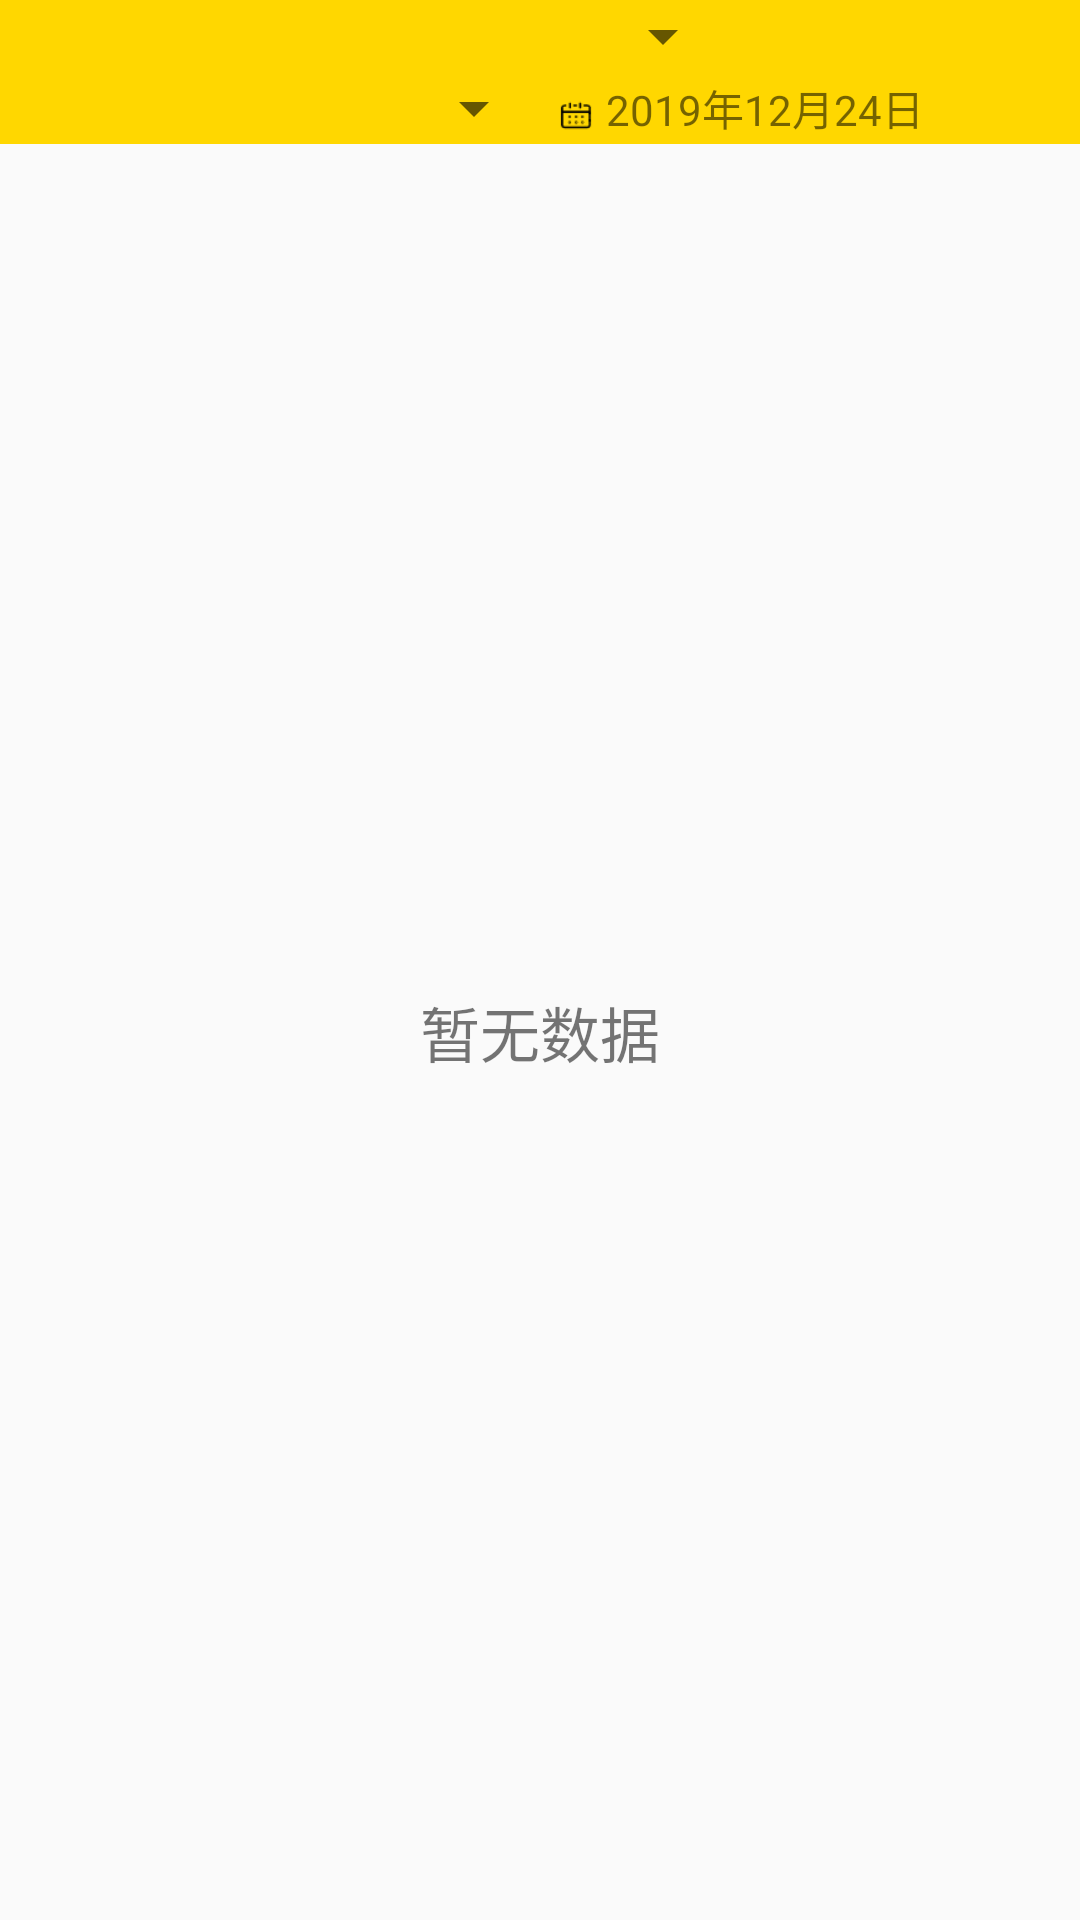

Where icons sit on this 1080x1920 app screen, as (x1, y1, x2, y2):
date: (560, 102, 591, 129)
